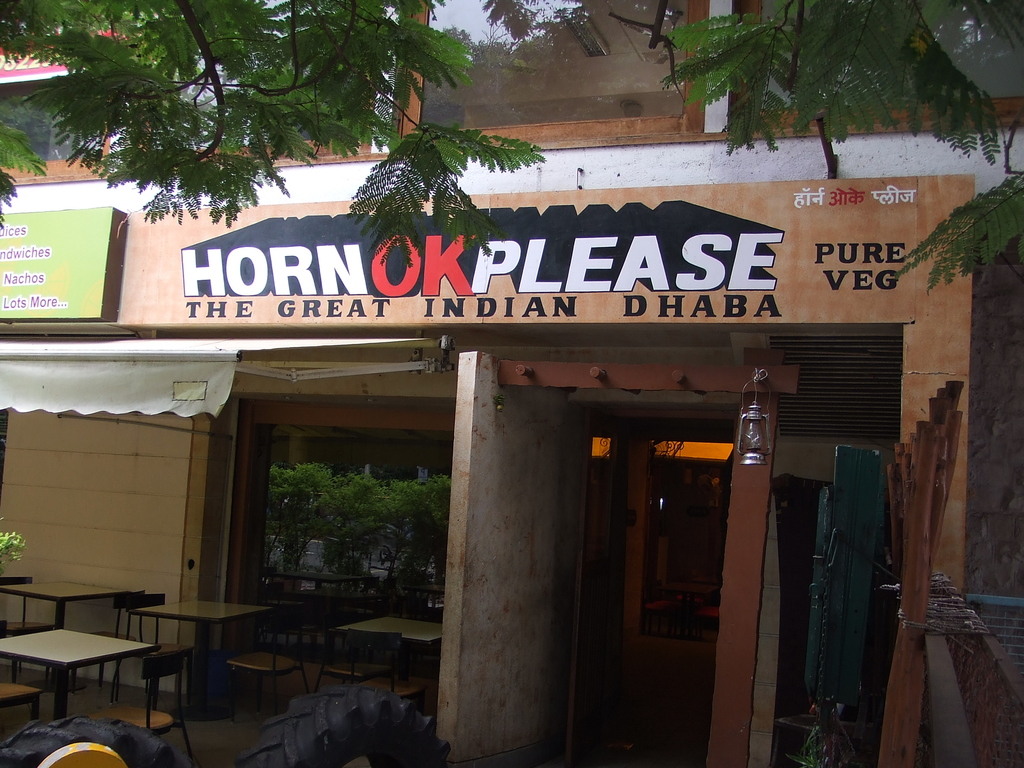Chair: (93, 651, 191, 765), (225, 613, 306, 726), (70, 587, 147, 696), (108, 592, 167, 705), (348, 633, 426, 714), (0, 577, 51, 684), (312, 628, 389, 696), (0, 682, 41, 722), (262, 582, 286, 605), (360, 577, 378, 593), (262, 567, 275, 588)
